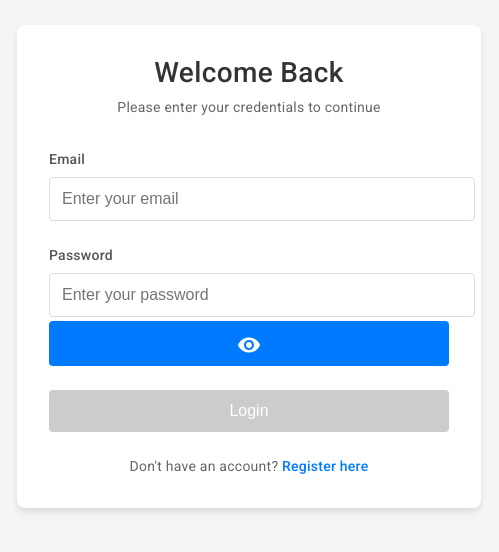
Test case: Login Flow › should validate password complexity requirements
The width and height of the screenshot is (499, 552).
In the password field named "password": (262, 295) [49,273,475,317], type "simple"
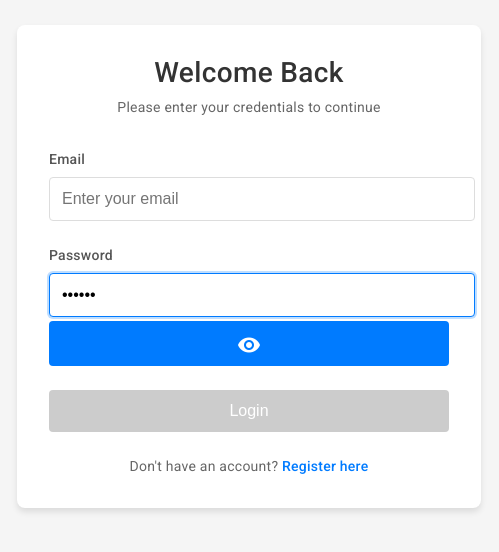
Leave the password field named "password", box [49,273,475,317]
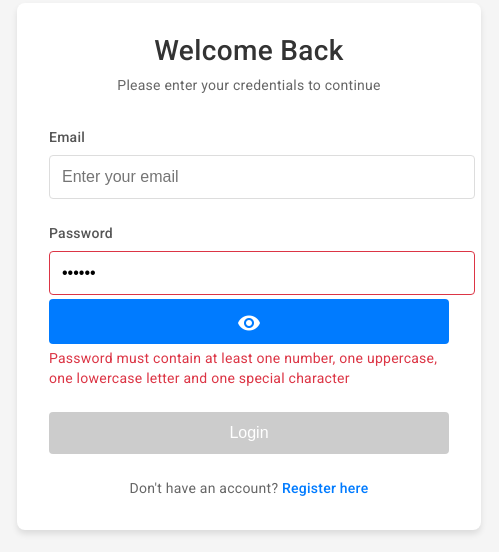
Check: the text with class "error-message" shows "Password must contain at least one number, one uppercase, one lowercase letter and one special character", box [49,350,437,386]
In the password field named "password": (262, 273) [49,251,475,295], type "Test123#!"
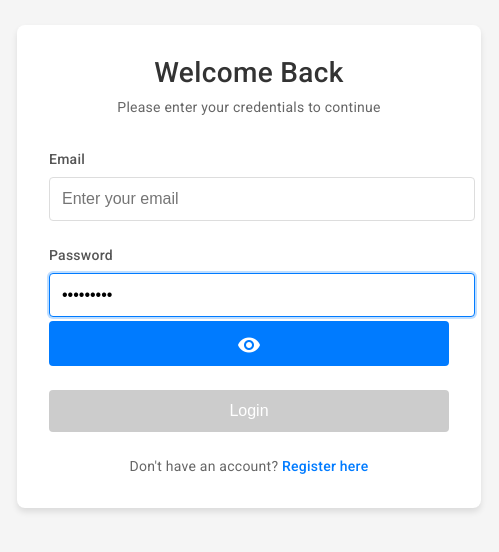
Check: the element with class "error-message" is gone
